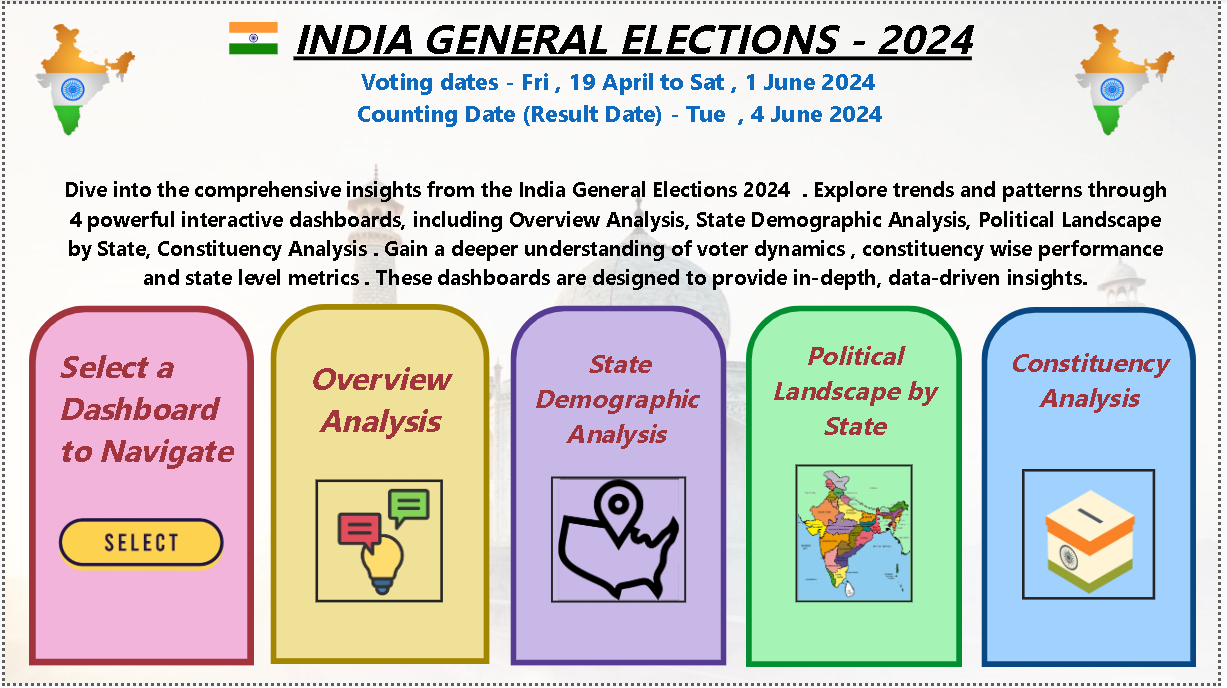

The page's visual inventory and layout, read from the dashboard file:
{"tool":"powerbi","page":{"name":"Landing Page","canvas":[1250,700],"ordinal":0},"visuals":[{"type":"textbox","box":[218.8,0,849.4,159.6],"z":0},{"type":"image","box":[231,18.2,51.7,33.4],"z":1000},{"type":"textbox","box":[51.7,170.2,1156.4,158],"z":2000},{"type":"image","box":[1098.7,18.2,109.4,118.5],"z":3000},{"type":"image","box":[25.8,18.2,109.4,118.5],"z":4000},{"type":"shape","box":[24.7,310.8,232,371.1],"z":5000},{"type":"shape","box":[273.7,309.3,225.8,371.1],"z":6000},{"type":"shape","box":[521.1,310.8,222.7,371.1],"z":7000},{"type":"shape","box":[763.9,310.8,222.7,372.7],"z":8000},{"type":"shape","box":[1006.7,312.4,221.1,371.1],"z":9000},{"type":"textbox","box":[51,287.6,205.7,281.4],"z":10000},{"type":"textbox","box":[283,300,205.7,194.8],"z":11000},{"type":"textbox","box":[518.1,327.8,224.2,176.3],"z":12000},{"type":"textbox","box":[763.9,279.9,222.7,281.4],"z":13000},{"type":"textbox","box":[1006.7,287.6,221.1,281.4],"z":14000},{"type":"image","box":[815,474.8,120.6,142.3],"z":15000},{"type":"image","box":[320.1,490.2,131.4,126.8],"z":16000},{"type":"image","box":[562.9,487.1,139.2,129.9],"z":17000},{"type":"image","box":[1048.5,479.4,137.6,134.5],"z":18000},{"type":"image","box":[0,521.1,283,78.9],"z":19000}]}

Visuals, with their boxes in screenshot pixels (x1, y1, x2, y2), scaled from the page's 1250x700 canvas onto the 1227x688 screenshot:
textbox: (x1=215, y1=0, x2=1049, y2=157)
image: (x1=227, y1=18, x2=277, y2=51)
textbox: (x1=51, y1=167, x2=1186, y2=323)
image: (x1=1078, y1=18, x2=1186, y2=134)
image: (x1=25, y1=18, x2=133, y2=134)
shape: (x1=24, y1=305, x2=252, y2=670)
shape: (x1=269, y1=304, x2=490, y2=669)
shape: (x1=512, y1=305, x2=730, y2=670)
shape: (x1=750, y1=305, x2=968, y2=672)
shape: (x1=988, y1=307, x2=1205, y2=672)
textbox: (x1=50, y1=283, x2=252, y2=559)
textbox: (x1=278, y1=295, x2=480, y2=486)
textbox: (x1=509, y1=322, x2=729, y2=495)
textbox: (x1=750, y1=275, x2=968, y2=552)
textbox: (x1=988, y1=283, x2=1205, y2=559)
image: (x1=800, y1=467, x2=918, y2=607)
image: (x1=314, y1=482, x2=443, y2=606)
image: (x1=553, y1=479, x2=689, y2=606)
image: (x1=1029, y1=471, x2=1164, y2=603)
image: (x1=0, y1=512, x2=278, y2=590)
